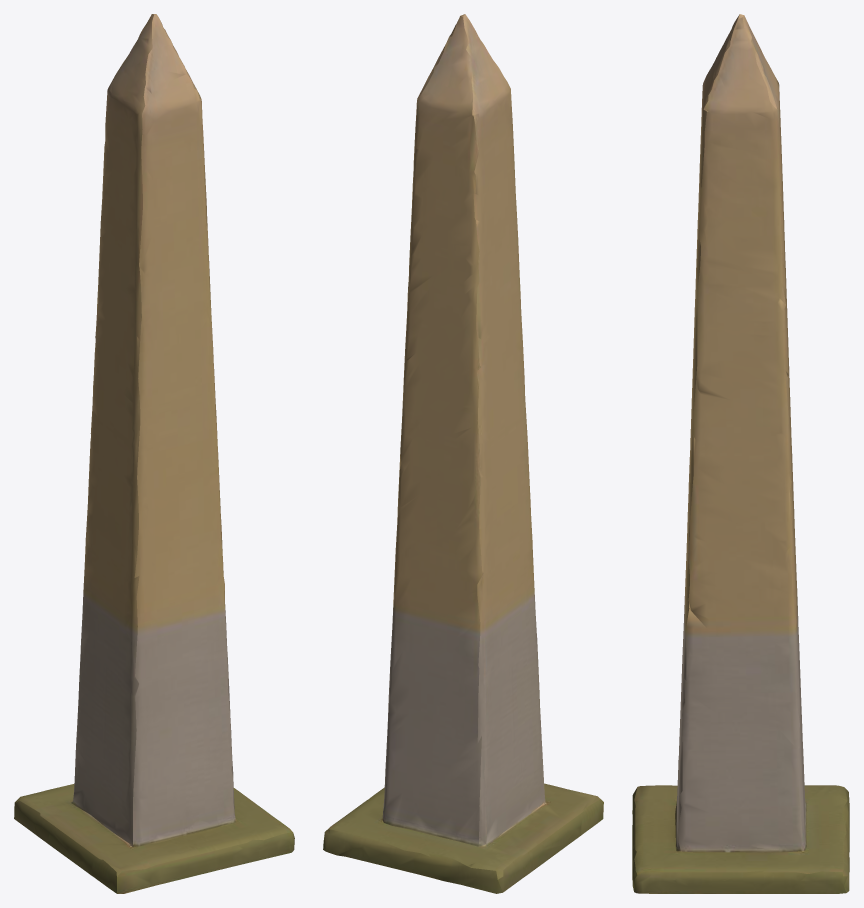
File: washington-monument.glb
The picture shows the model from 3 angles, left to right: view 1: azimuth 30°, elevation 25°; view 2: azimuth 150°, elevation 25°; view 3: azimuth 270°, elevation 25°; orthographic projection.
Visible parts, largest first — view 1: logan-textured.obj; view 2: logan-textured.obj; view 3: logan-textured.obj.
Boxes of the visible parts, left/top/right/bottom form: logan-textured.obj: left=14, top=14, right=294, bottom=893; logan-textured.obj: left=323, top=14, right=603, bottom=893; logan-textured.obj: left=632, top=14, right=849, bottom=893.
Size of the model in its own units: 0.23 by 1 by 0.2355.
1 material, 1 textured.
